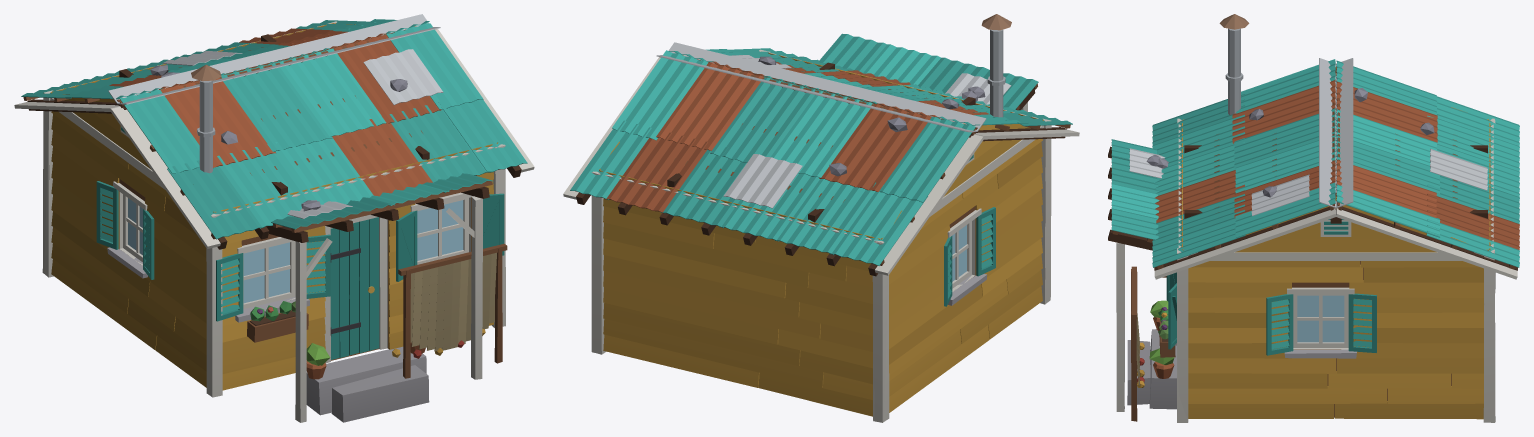
3 views of the same model, side by side, from view 1: azimuth 30°, elevation 25°; view 2: azimuth 150°, elevation 25°; view 3: azimuth 270°, elevation 25° (orthographic). The views are drawn at different scales.
Visible parts, largest first — view 1: H04_ROOF, H04_WALL_S, H04_WALL_W, H04_BASE, H04_DOOR_main, H04_WALL_N; view 2: H04_ROOF, H04_WALL_N, H04_WALL_W, H04_WALL_S; view 3: H04_ROOF, H04_WALL_E, H04_WALL_S, H04_BASE, H04_WALL_N.
Boxes of the visible parts, x1,y1,x2,y2 form: H04_ROOF: (14, 14, 534, 249); H04_WALL_S: (206, 143, 507, 422); H04_WALL_W: (43, 90, 220, 396); H04_BASE: (306, 346, 429, 422); H04_DOOR_main: (330, 217, 379, 359); H04_WALL_N: (42, 21, 336, 273); H04_ROOF: (563, 14, 1079, 276); H04_WALL_N: (591, 170, 888, 422); H04_WALL_W: (873, 119, 1051, 421); H04_WALL_S: (759, 33, 1045, 304); H04_ROOF: (1152, 14, 1519, 279); H04_WALL_E: (1177, 193, 1494, 422); H04_WALL_S: (1108, 120, 1187, 422); H04_BASE: (1127, 329, 1176, 409); H04_WALL_N: (1484, 119, 1495, 422).
Size of the model in its own units: 4.62 by 4.54 by 5.37.
